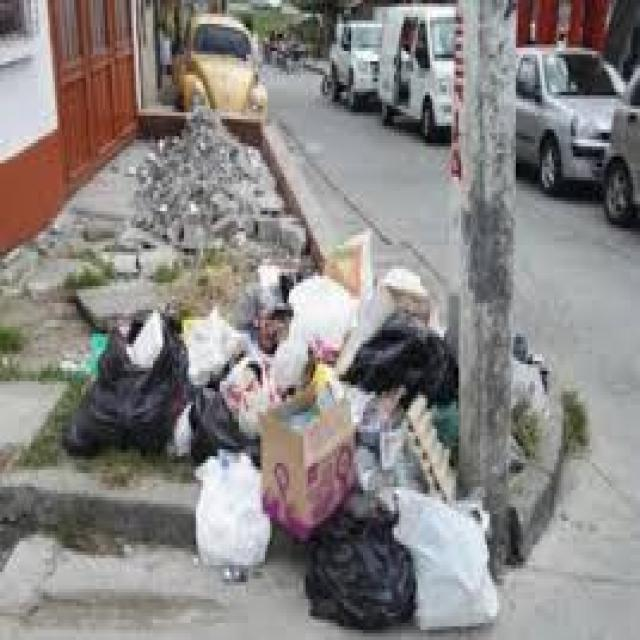garbage: (62, 227, 506, 640)
